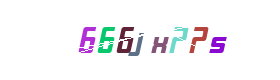6: (66, 0, 146, 80), (85, 0, 165, 80), (99, 0, 179, 80)
7: (108, 0, 188, 80), (129, 0, 209, 80)
J: (105, 0, 185, 80)
S: (159, 0, 239, 80)
X: (107, 0, 187, 80)
